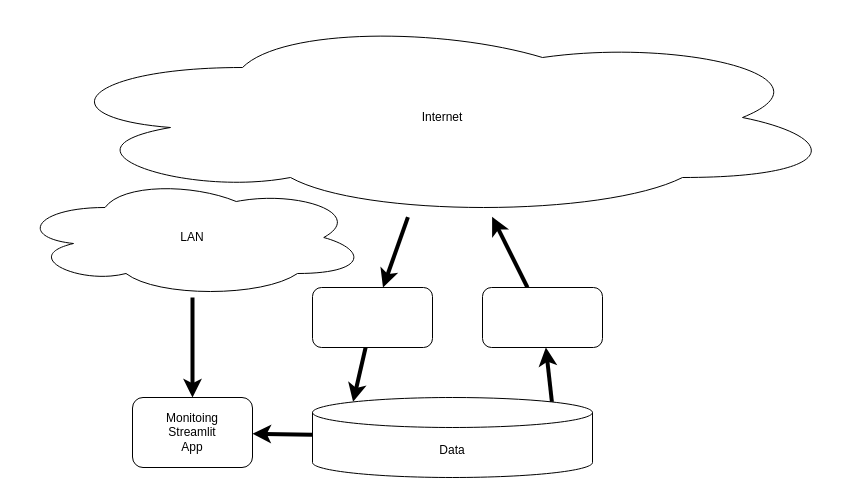
Image size: 860x495. Some labels were removed from this diagram. Here are the shapes that lost their labels. From the top down, the centre of each, then its label:
point 372,317: Value Get price
point 542,317: Control Charger Control
